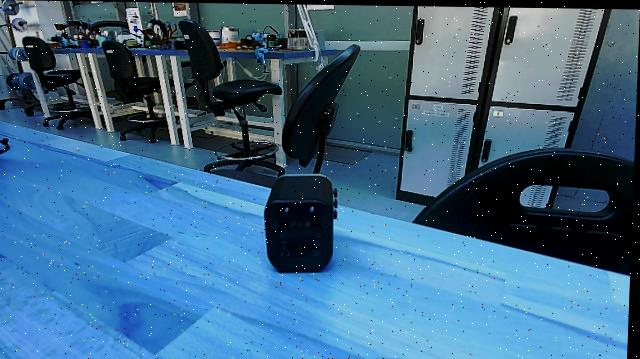adapter: (259, 165, 344, 278)
